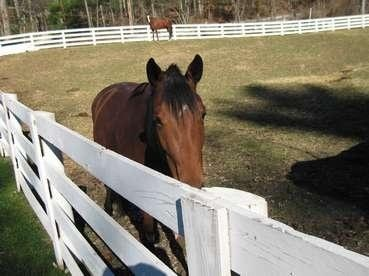horse: (90, 54, 206, 256), (145, 13, 175, 43)
